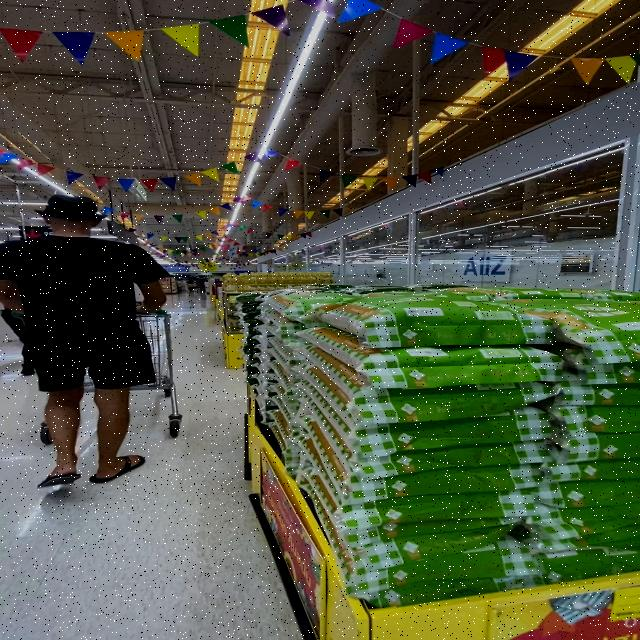hands: (137, 280, 166, 313)
person: (0, 195, 167, 488)
